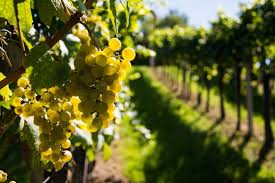grapes: (20, 84, 77, 162), (74, 39, 121, 133)
